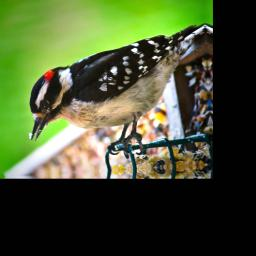Woodpecker: (23, 23, 212, 165)
